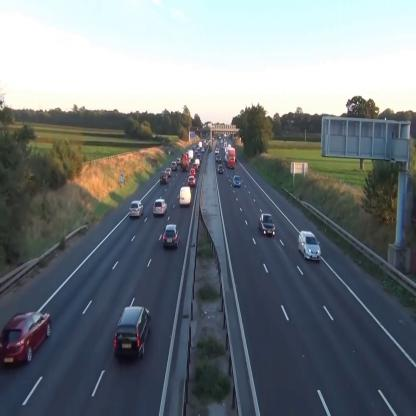car: (1, 311, 51, 368), (114, 306, 151, 360), (298, 231, 321, 262), (163, 224, 180, 249), (259, 214, 275, 236), (128, 201, 144, 218), (153, 198, 167, 216), (232, 174, 241, 186), (160, 172, 168, 184), (188, 175, 196, 186), (171, 161, 177, 171), (166, 167, 172, 176), (189, 167, 195, 176), (218, 165, 223, 173), (176, 158, 180, 164)
lorry: (179, 187, 191, 205), (226, 148, 235, 169), (181, 153, 189, 170)
